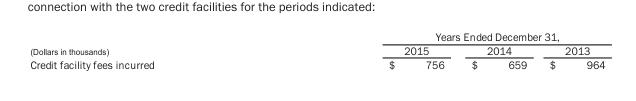table: (29, 29, 604, 70)
table column: (29, 29, 270, 70), (270, 29, 457, 70), (457, 29, 537, 70), (537, 29, 604, 70)
table column header: (29, 29, 604, 56)
table row: (29, 42, 604, 56), (29, 56, 604, 70), (29, 29, 604, 42)
table spanning cell: (29, 29, 270, 56), (270, 29, 604, 42)
